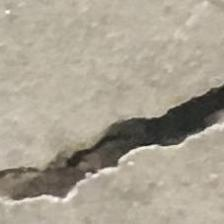Crack: (0, 75, 224, 224)
